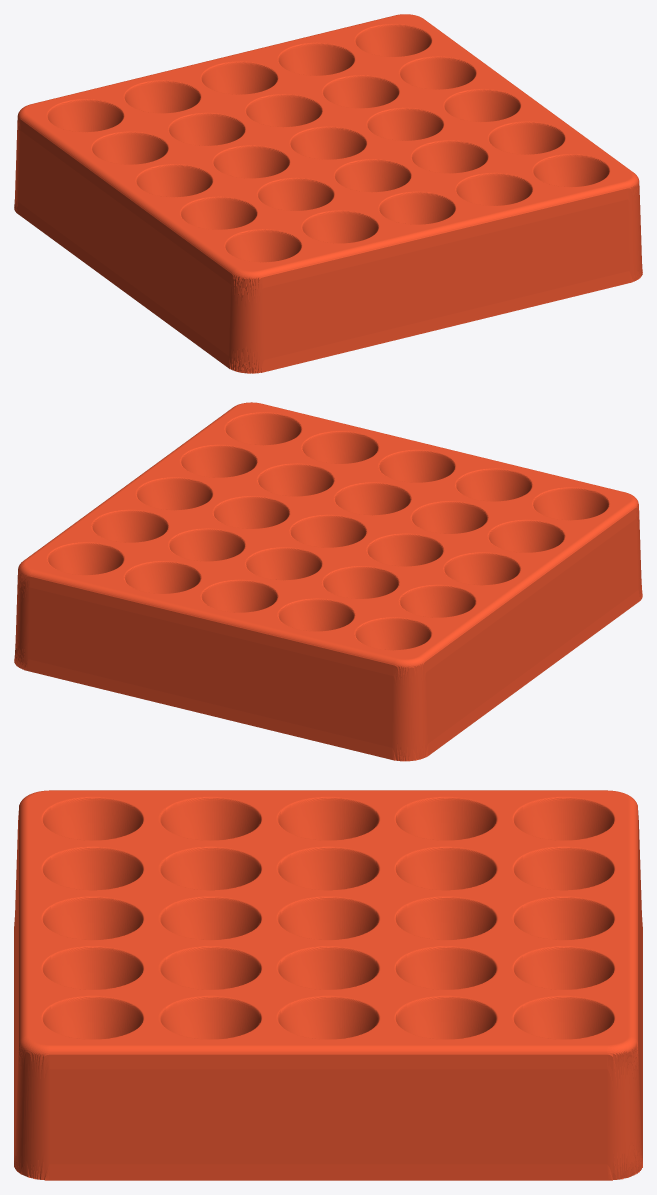
The model's file is mold.glb.
3 renders of one model, top to bottom at view 1: azimuth 30°, elevation 25°; view 2: azimuth 150°, elevation 25°; view 3: azimuth 270°, elevation 25°, orthographic. The views are drawn at different scales.
Parts seen in each view (by area): view 1: geometry_0; view 2: geometry_0; view 3: geometry_0.
Boxes of the visible parts, x1=… form: geometry_0: x1=14, y1=14, x2=642, y2=373; geometry_0: x1=14, y1=402, x2=642, y2=761; geometry_0: x1=14, y1=790, x2=642, y2=1180.
Bounding box in the file's own units: 0.1584 × 0.0359 × 0.1584.
